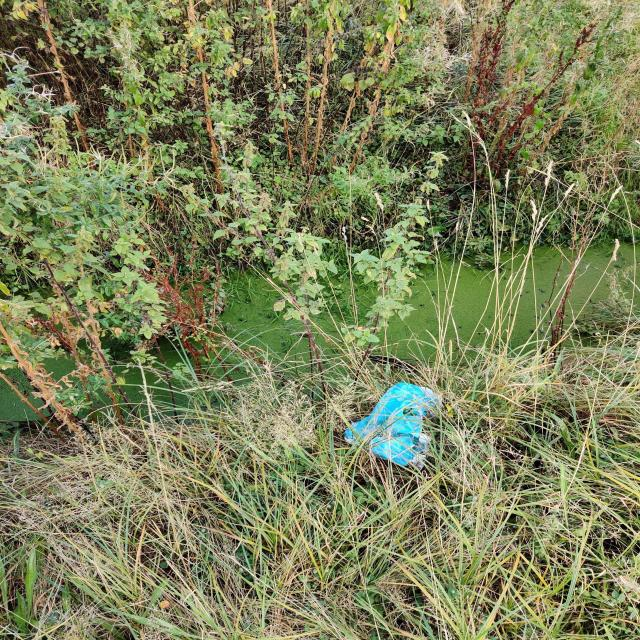litter: (333, 368, 456, 486)
